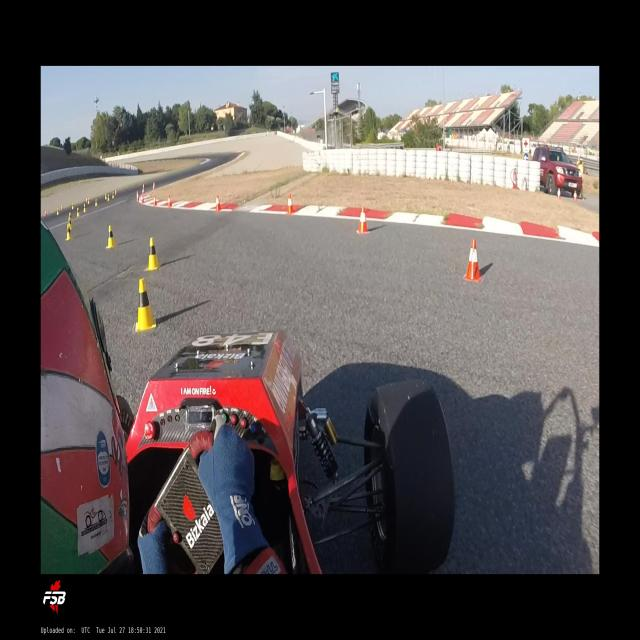orange_cone: (463, 239, 483, 281), (356, 206, 368, 234), (286, 193, 294, 214), (215, 194, 221, 212), (572, 189, 578, 201), (556, 186, 561, 198), (168, 195, 172, 208), (141, 184, 145, 196), (153, 195, 157, 206), (140, 195, 144, 204), (136, 191, 139, 202), (152, 182, 155, 190), (44, 210, 48, 216), (60, 205, 64, 210)
yellow_cone: (135, 279, 156, 332), (145, 237, 161, 271), (105, 225, 116, 249), (65, 224, 72, 240), (68, 217, 72, 230), (76, 207, 80, 217), (94, 198, 98, 207), (83, 203, 86, 213), (71, 201, 74, 210), (69, 212, 72, 220), (104, 193, 107, 200), (56, 208, 59, 215), (88, 197, 90, 205), (107, 194, 109, 201), (112, 192, 114, 199), (86, 198, 88, 203), (115, 191, 116, 195)
